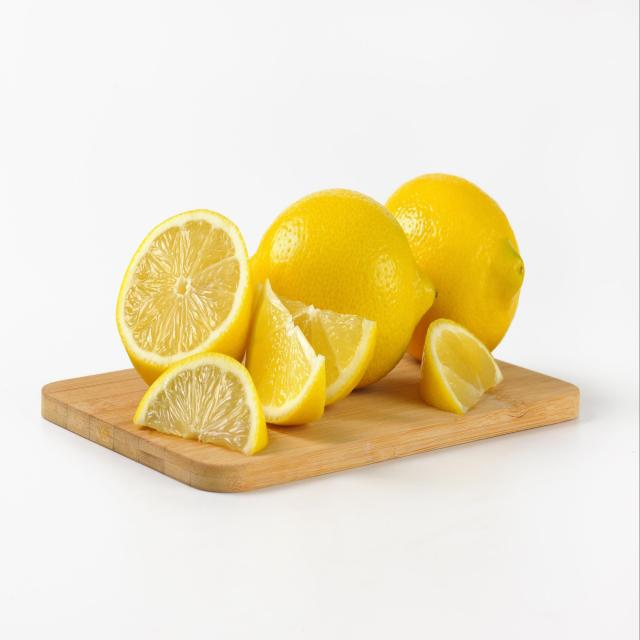lemon: (114, 206, 255, 397), (127, 348, 271, 462), (418, 316, 504, 418)
